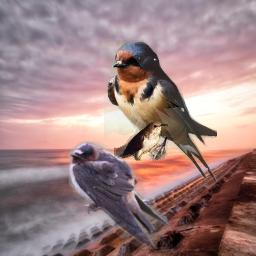Cuckoo: (114, 121, 168, 161)
Swallow: (104, 40, 217, 183), (67, 141, 170, 249)
